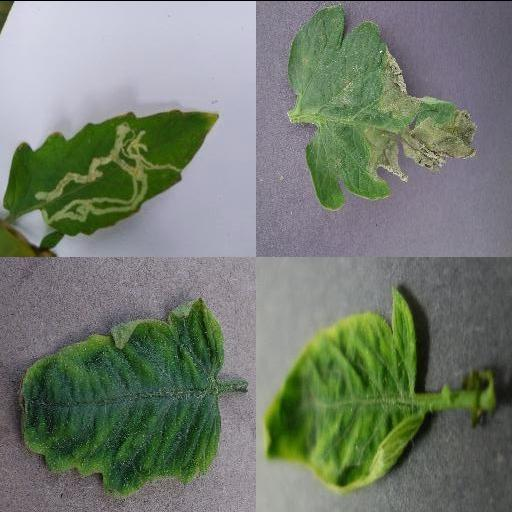Late Blight: (287, 2, 481, 210)
Leaf Miner: (2, 107, 221, 235)
Yellow Leaf Curl Virus: (15, 294, 227, 496), (263, 285, 427, 489)
